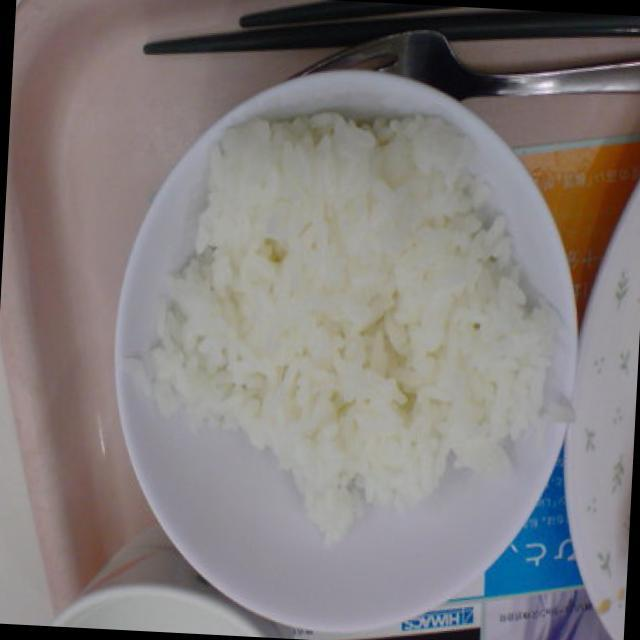Rice: (150, 101, 546, 512)
